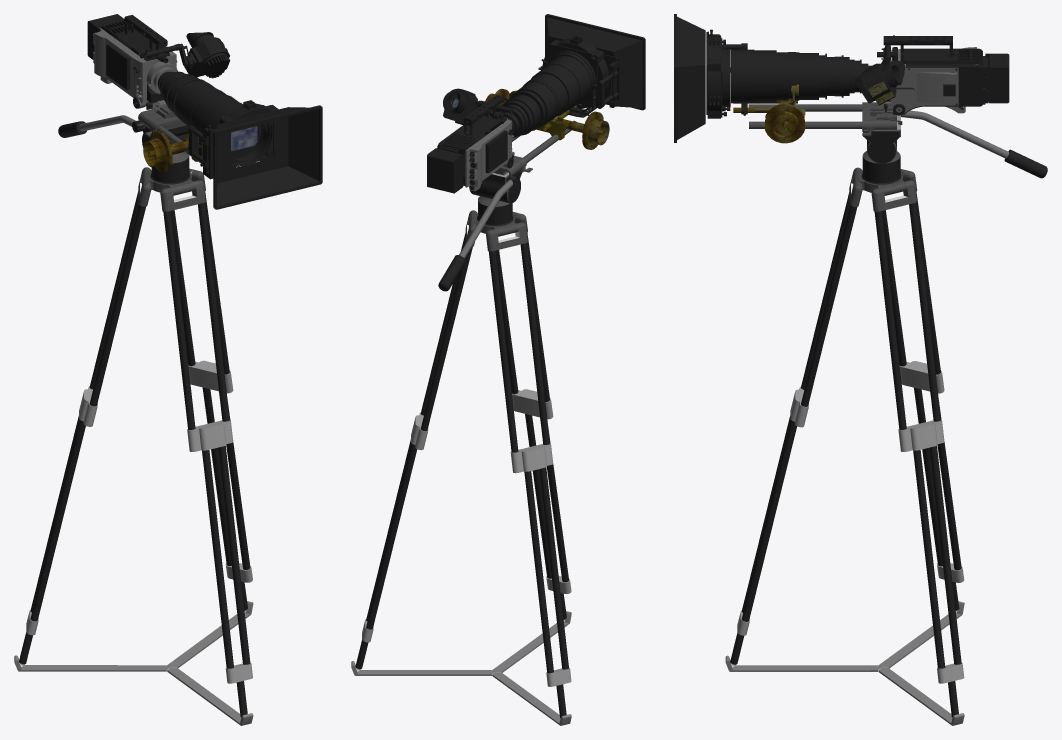
Rendered from Tripé-camera-video.glb.
3 views of the same model, side by side, from view 1: azimuth 30°, elevation 25°; view 2: azimuth 150°, elevation 25°; view 3: azimuth 270°, elevation 25° (orthographic). The views are drawn at different scales.
Visible parts, largest first — view 1: Object_8, Object_11, Object_13, Object_9, Object_10, Object_5, Object_6, Object_16, Object_17, Object_15, Object_12, Object_21 (+3 smaller); view 2: Object_8, Object_11, Object_13, Object_9, Object_16, Object_12, Object_10, Object_5, Object_6, Object_17, Object_21, Object_15 (+1 smaller); view 3: Object_8, Object_11, Object_13, Object_5, Object_9, Object_6, Object_10, Object_16, Object_17, Object_12, Object_20, Object_15 (+1 smaller).
Boxes of the visible parts, x1,y1,x2,y2 form: Object_8: [19, 47, 250, 717]; Object_11: [58, 44, 322, 209]; Object_13: [144, 53, 262, 157]; Object_9: [26, 360, 252, 683]; Object_10: [14, 601, 253, 725]; Object_5: [138, 106, 205, 211]; Object_6: [78, 28, 177, 131]; Object_16: [192, 100, 278, 179]; Object_17: [101, 21, 177, 103]; Object_15: [144, 32, 230, 78]; Object_12: [87, 14, 225, 166]; Object_21: [143, 130, 202, 172]; Object_8: [355, 176, 568, 717]; Object_11: [438, 14, 645, 291]; Object_13: [489, 56, 591, 137]; Object_9: [362, 172, 571, 686]; Object_16: [541, 35, 620, 108]; Object_12: [427, 77, 604, 193]; Object_10: [351, 611, 571, 725]; Object_5: [465, 120, 576, 251]; Object_6: [459, 118, 514, 258]; Object_17: [438, 116, 507, 185]; Object_21: [536, 105, 609, 149]; Object_15: [443, 88, 513, 124]; Object_8: [730, 67, 982, 717]; Object_11: [674, 14, 1047, 183]; Object_13: [731, 47, 897, 103]; Object_5: [748, 102, 917, 211]; Object_9: [737, 115, 964, 683]; Object_6: [878, 47, 1009, 158]; Object_10: [725, 601, 964, 725]; Object_16: [706, 29, 741, 118]; Object_17: [887, 48, 982, 115]; Object_12: [741, 43, 1009, 114]; Object_20: [764, 84, 805, 143]; Object_15: [855, 56, 905, 105].
Size of the model in its own units: 0.6679 by 1.68 by 0.9042.
Materials: 12 (5 with a texture image).
